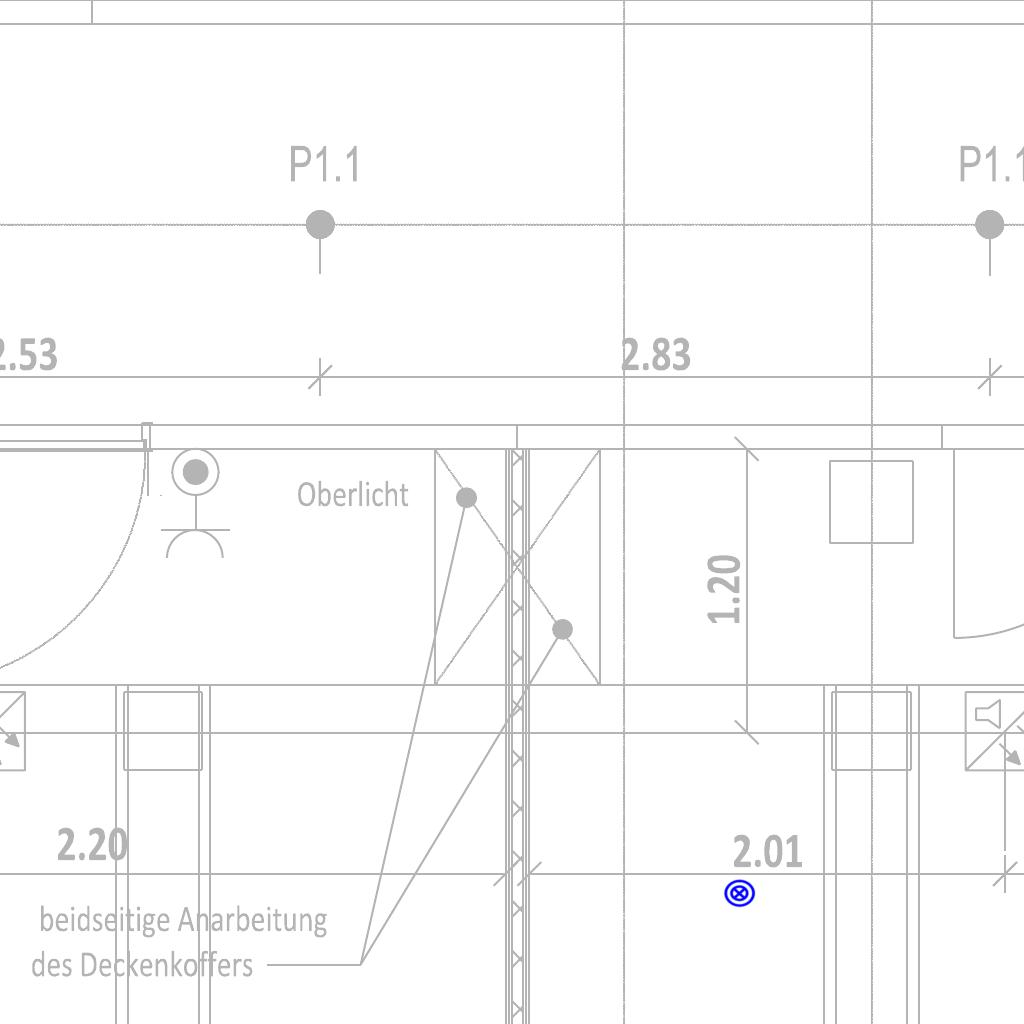Taster_beleuchtet: (723, 877, 756, 910)
